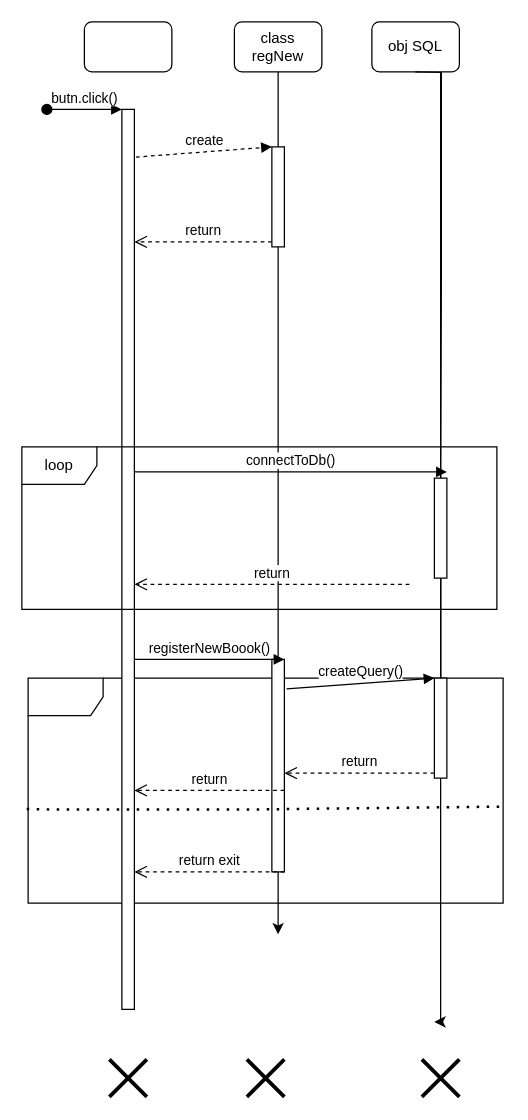
The diagram is 528 pixels wide and 1120 high, and some of its shapes have lost their labels. Here are the shapes that lost their labels. From the top down, the centre of each, then its label:
At point (127, 46): "form: Form1".
At point (265, 790): "alt".
